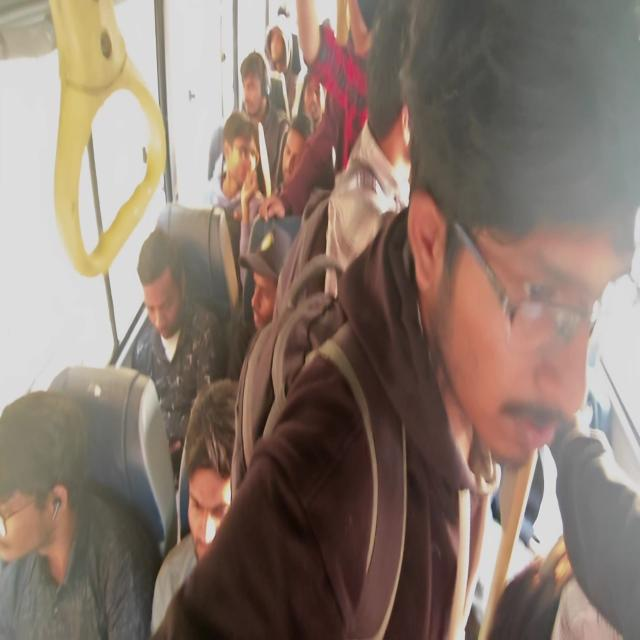person: (412, 12, 640, 640), (176, 367, 260, 636), (0, 357, 76, 640), (202, 222, 316, 381), (120, 238, 217, 376), (369, 30, 427, 163), (218, 100, 274, 201), (264, 115, 316, 188), (287, 52, 332, 134), (259, 16, 291, 67), (232, 56, 262, 105)
